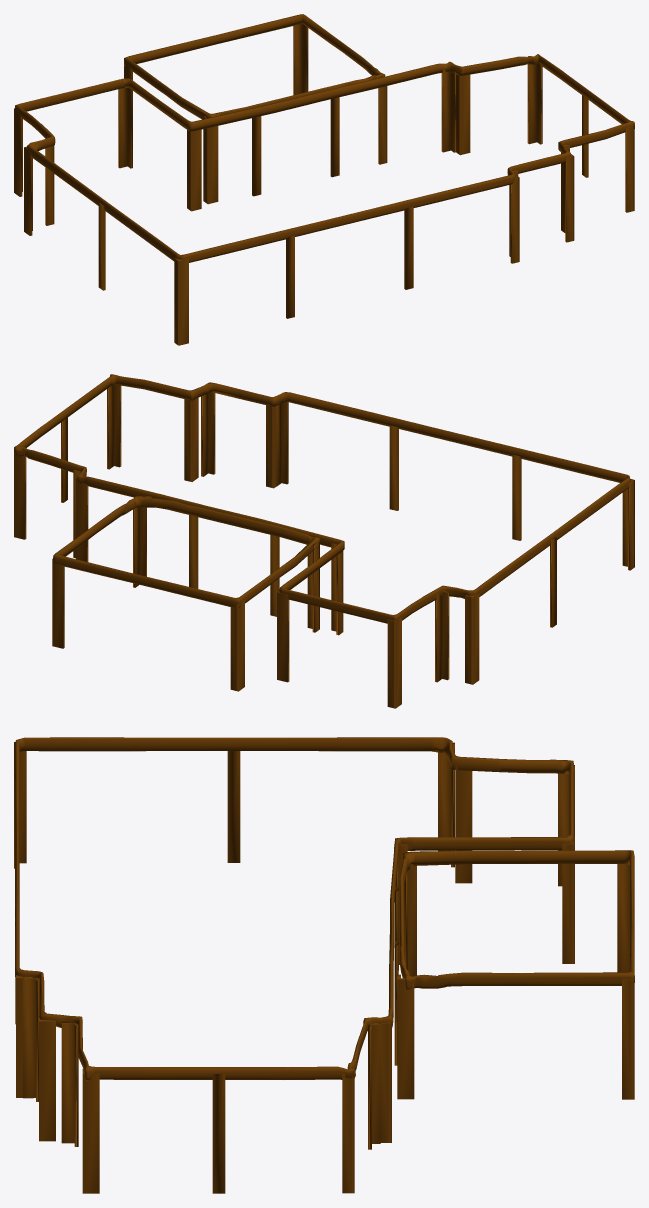
Rendered from Wizard_Hub_Wood.fbx.
3 renders of one model, top to bottom at view 1: azimuth 30°, elevation 25°; view 2: azimuth 150°, elevation 25°; view 3: azimuth 270°, elevation 25°, orthographic. The views are drawn at different scales.
Parts seen in each view (by area): view 1: large_room_trim, inner_room_trim, Corner5, Corner8, Corner14, Corner7, Corner, Corner1, Corner6, Corner15, Corner10, Corner9 (+11 smaller); view 2: large_room_trim, inner_room_trim, Corner3, Corner2, Corner4, Corner17, Corner9, Corner12, Corner10, Corner1, Corner8, Corner15 (+13 smaller); view 3: large_room_trim, inner_room_trim, Corner12, Corner9, Corner16, Corner10, Corner13, Pillar2, Corner4, Corner6, Corner15, Pillar5 (+9 smaller).
Part boxes in pixels (bbox=[...]): large_room_trim: bbox=[15, 54, 634, 262]; inner_room_trim: bbox=[124, 14, 385, 119]; Corner5: bbox=[174, 258, 188, 345]; Corner8: bbox=[527, 63, 542, 144]; Corner14: bbox=[203, 116, 218, 204]; Corner7: bbox=[441, 67, 455, 152]; Corner: bbox=[187, 129, 201, 211]; Corner1: bbox=[118, 87, 132, 168]; Corner6: bbox=[456, 74, 470, 155]; Corner15: bbox=[293, 24, 308, 95]; Corner10: bbox=[565, 154, 574, 242]; Corner9: bbox=[625, 126, 634, 212]; large_room_trim: bbox=[14, 374, 630, 623]; inner_room_trim: bbox=[53, 496, 319, 608]; Corner3: bbox=[465, 593, 479, 684]; Corner2: bbox=[387, 617, 401, 708]; Corner4: bbox=[435, 591, 449, 682]; Corner17: bbox=[230, 599, 244, 691]; Corner9: bbox=[107, 384, 121, 469]; Corner12: bbox=[184, 397, 198, 481]; Corner10: bbox=[201, 392, 215, 476]; Corner1: bbox=[277, 591, 289, 682]; Corner8: bbox=[14, 451, 26, 539]; Corner15: bbox=[52, 558, 64, 648]; large_room_trim: bbox=[15, 737, 573, 1080]; inner_room_trim: bbox=[399, 850, 634, 989]; Corner12: bbox=[61, 1022, 78, 1146]; Corner9: bbox=[82, 1068, 99, 1193]; Corner16: bbox=[397, 974, 414, 1099]; Corner10: bbox=[39, 1016, 55, 1141]; Corner13: bbox=[23, 977, 39, 1101]; Pillar2: bbox=[212, 1074, 225, 1193]; Corner4: bbox=[455, 763, 472, 883]; Corner6: bbox=[368, 1023, 380, 1149]; Corner15: bbox=[622, 979, 634, 1099]; Pillar5: bbox=[227, 751, 240, 862].
Size of the model in its own units: 4945 by 871 by 3896.
